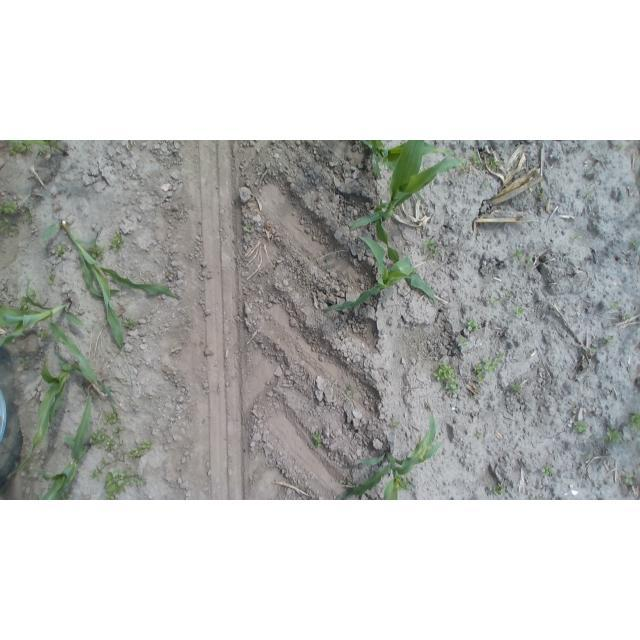Maize: (351, 142, 465, 300), (49, 220, 182, 353), (7, 360, 113, 480), (338, 405, 447, 499), (1, 277, 96, 378), (321, 234, 440, 314), (26, 386, 98, 498), (355, 141, 455, 204), (0, 141, 70, 157), (361, 141, 390, 177)
Weeds: (102, 469, 147, 499), (472, 352, 504, 382), (433, 361, 460, 396), (125, 438, 155, 460), (422, 238, 441, 263), (7, 141, 38, 155), (20, 289, 39, 311), (108, 231, 126, 253), (603, 426, 623, 445), (395, 474, 414, 494), (90, 428, 107, 449), (1, 200, 22, 216), (571, 420, 590, 436), (87, 244, 105, 260), (103, 408, 121, 424), (311, 429, 324, 449), (483, 157, 500, 172), (519, 252, 534, 268), (123, 316, 140, 330), (489, 482, 507, 495), (628, 411, 638, 434), (621, 471, 636, 485), (540, 463, 555, 477), (104, 435, 115, 453), (38, 327, 52, 341), (55, 243, 68, 258), (458, 336, 471, 351), (466, 319, 480, 332), (513, 304, 526, 317), (21, 208, 36, 219), (512, 248, 524, 261), (510, 383, 522, 396), (99, 457, 113, 468), (45, 271, 55, 285), (0, 219, 10, 233), (471, 153, 481, 167), (620, 311, 632, 322), (603, 335, 614, 346), (243, 223, 254, 234), (537, 188, 547, 200), (90, 469, 100, 481), (345, 383, 355, 395), (112, 427, 124, 437), (586, 347, 599, 356), (59, 491, 73, 499), (615, 141, 626, 151), (491, 297, 501, 308), (459, 162, 469, 173), (391, 419, 402, 429), (630, 238, 639, 250), (19, 357, 31, 366), (609, 302, 620, 311), (476, 430, 485, 440), (131, 405, 141, 414), (584, 190, 593, 200), (571, 234, 581, 243), (482, 180, 491, 189), (323, 254, 331, 262), (119, 452, 126, 460), (505, 291, 512, 298), (348, 482, 355, 489), (13, 227, 19, 235), (585, 453, 591, 459), (339, 480, 345, 485), (120, 443, 124, 446)
